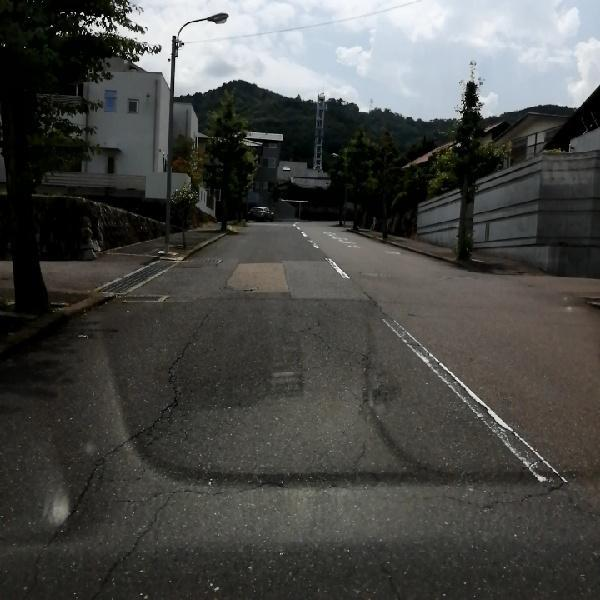D00: (19, 414, 162, 599), (154, 295, 217, 438), (301, 306, 384, 405), (93, 495, 174, 593), (362, 536, 398, 599)
D10: (180, 469, 566, 525)
D44: (366, 301, 563, 486)
